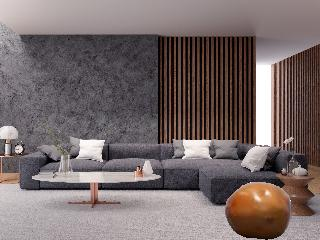potato: (224, 179, 295, 240)
